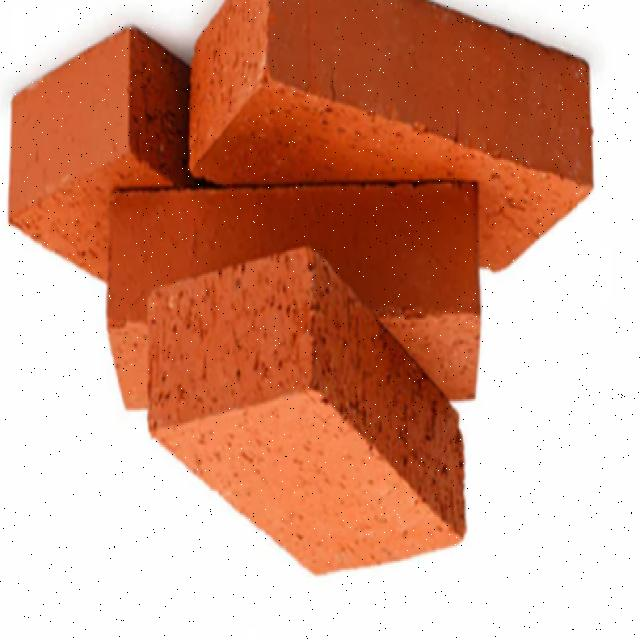bricks: (188, 0, 595, 277), (145, 248, 466, 576), (107, 180, 484, 412), (9, 24, 192, 286)
